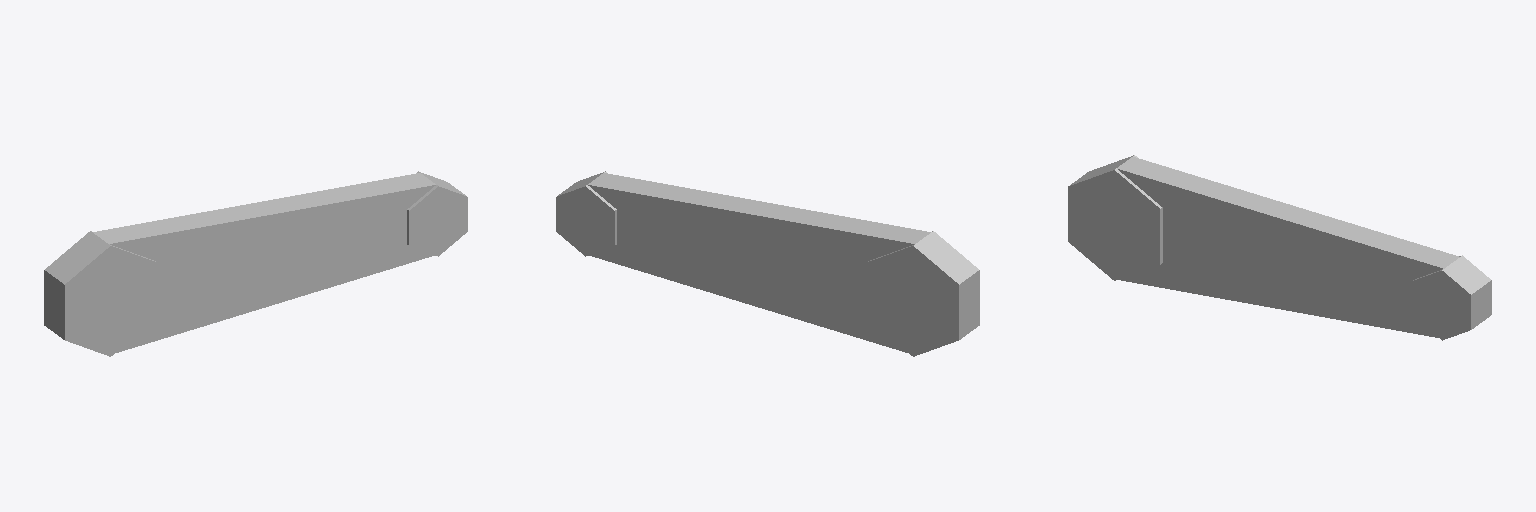
The model's file is Forearm.obj.
The picture shows the model from 3 angles: view 1: azimuth 30°, elevation 25°; view 2: azimuth 150°, elevation 25°; view 3: azimuth 330°, elevation 25°; orthographic projection.
Visible parts, largest first — view 1: Mesh1 Group1 Model; view 2: Mesh1 Group1 Model; view 3: Mesh1 Group1 Model.
Part boxes in pixels (left/top/right/bottom): Mesh1 Group1 Model: left=44, top=171, right=467, bottom=356; Mesh1 Group1 Model: left=556, top=171, right=979, bottom=356; Mesh1 Group1 Model: left=1068, top=155, right=1491, bottom=340.
Size of the model in its own units: 22.47 by 5.93 by 1.97.